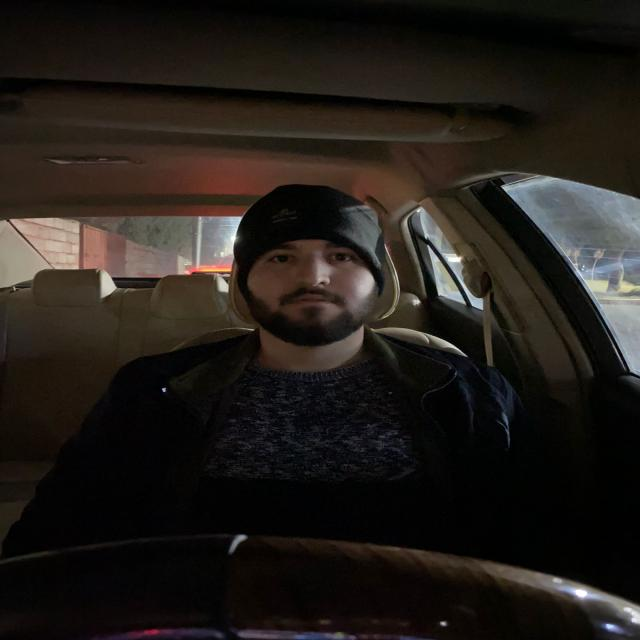person: (230, 182, 387, 345)
